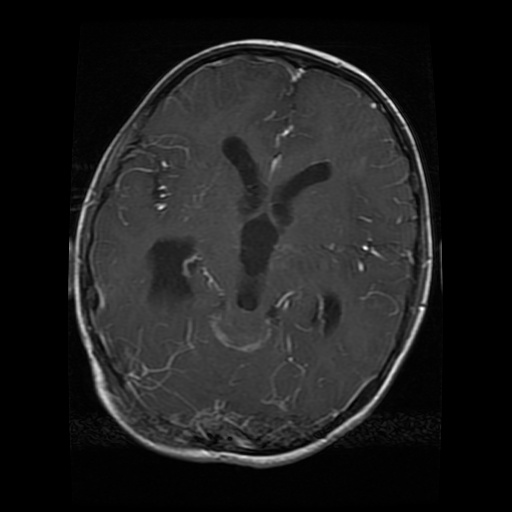glioma: (143, 234, 198, 304)
